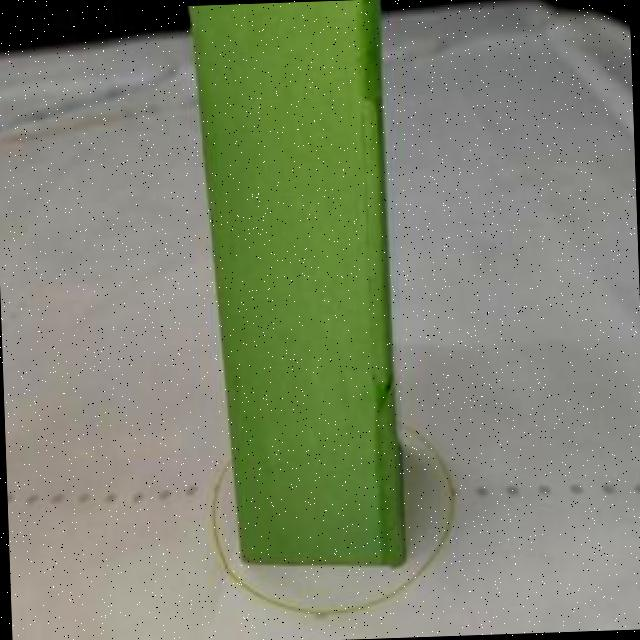greenbox: (187, 0, 394, 570)
